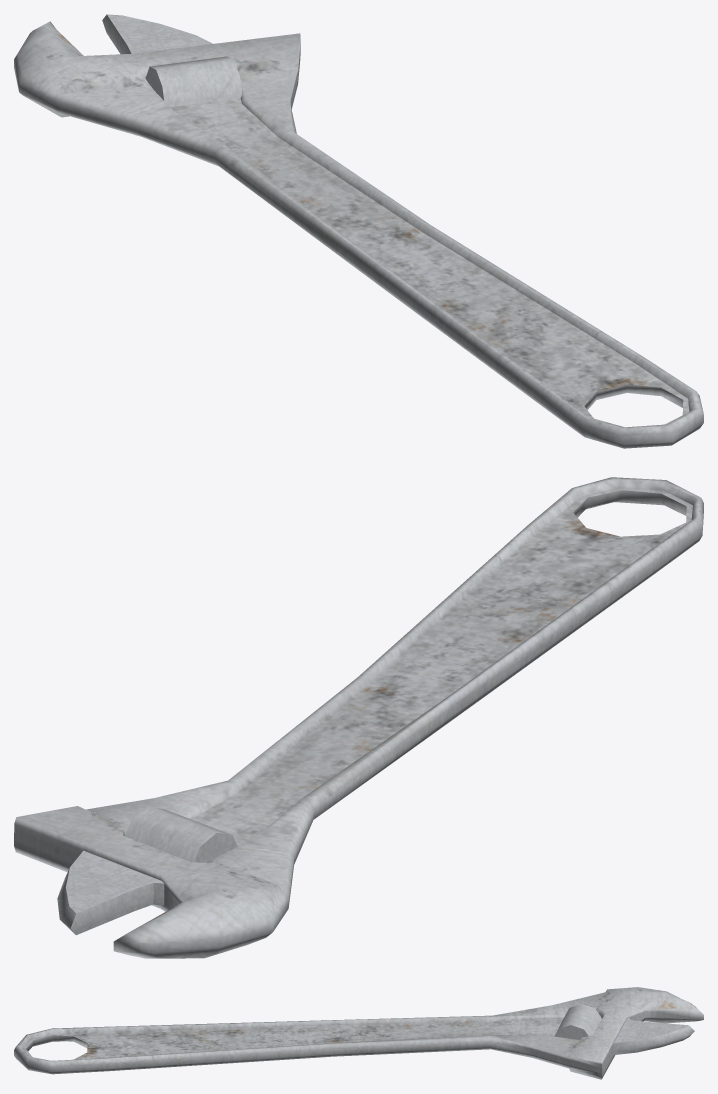
Rendered from wrench.fbx.
The picture shows the model from 3 angles, top to bottom: view 1: azimuth 30°, elevation 25°; view 2: azimuth 150°, elevation 25°; view 3: azimuth 270°, elevation 25°; orthographic projection. The views are drawn at different scales.
Visible parts, largest first — view 1: wrench; view 2: wrench; view 3: wrench.
Boxes of the visible parts, box(x1,y1,x2,y2) form: wrench: box(14, 14, 703, 448); wrench: box(14, 477, 703, 958); wrench: box(14, 987, 703, 1079).
Size of the model in its own units: 0.1077 by 0.0242 by 0.4068.
Materials: 1 (1 with a texture image).
